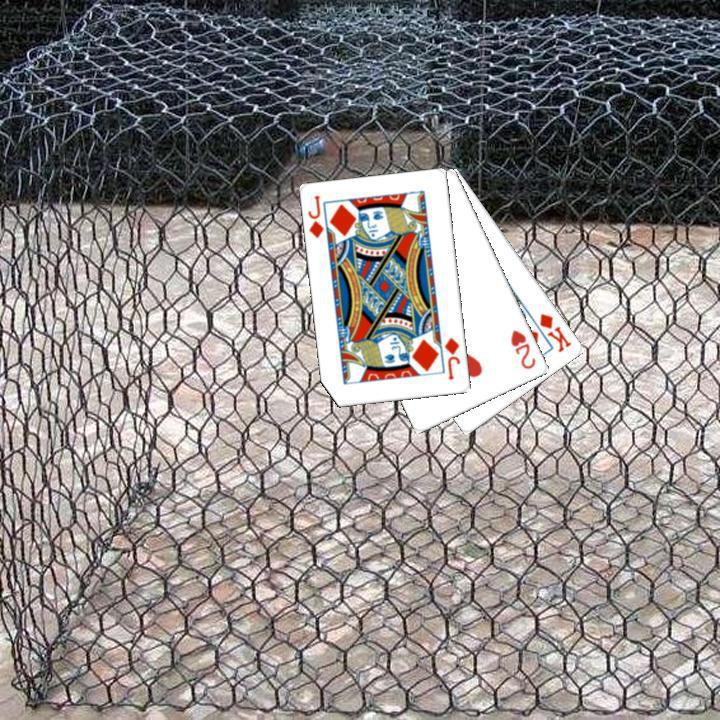2: (507, 325, 538, 371)
J: (440, 333, 462, 382), (304, 191, 326, 240)
K: (535, 309, 574, 354)
